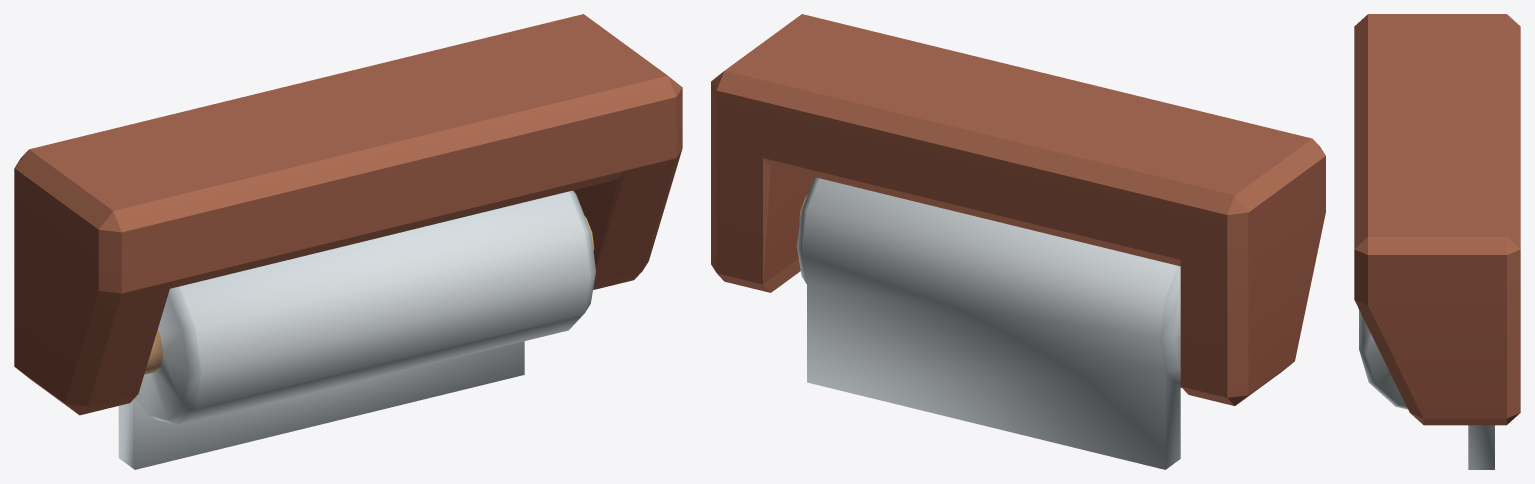
The model's file is Shelf Papertowel.glb.
The picture shows the model from 3 angles, left to right: view 1: azimuth 30°, elevation 25°; view 2: azimuth 150°, elevation 25°; view 3: azimuth 270°, elevation 25°; orthographic projection. The views are drawn at different scales.
Parts seen in each view (by area): view 1: shelf_papertowel; view 2: shelf_papertowel; view 3: shelf_papertowel.
Part boxes in pixels (left/top/right/bottom): shelf_papertowel: left=14, top=14, right=682, bottom=469; shelf_papertowel: left=711, top=14, right=1325, bottom=469; shelf_papertowel: left=1354, top=14, right=1520, bottom=469.
Bounding box in the file's own units: 2 × 1.06 × 0.6.
1 material, 1 textured.
